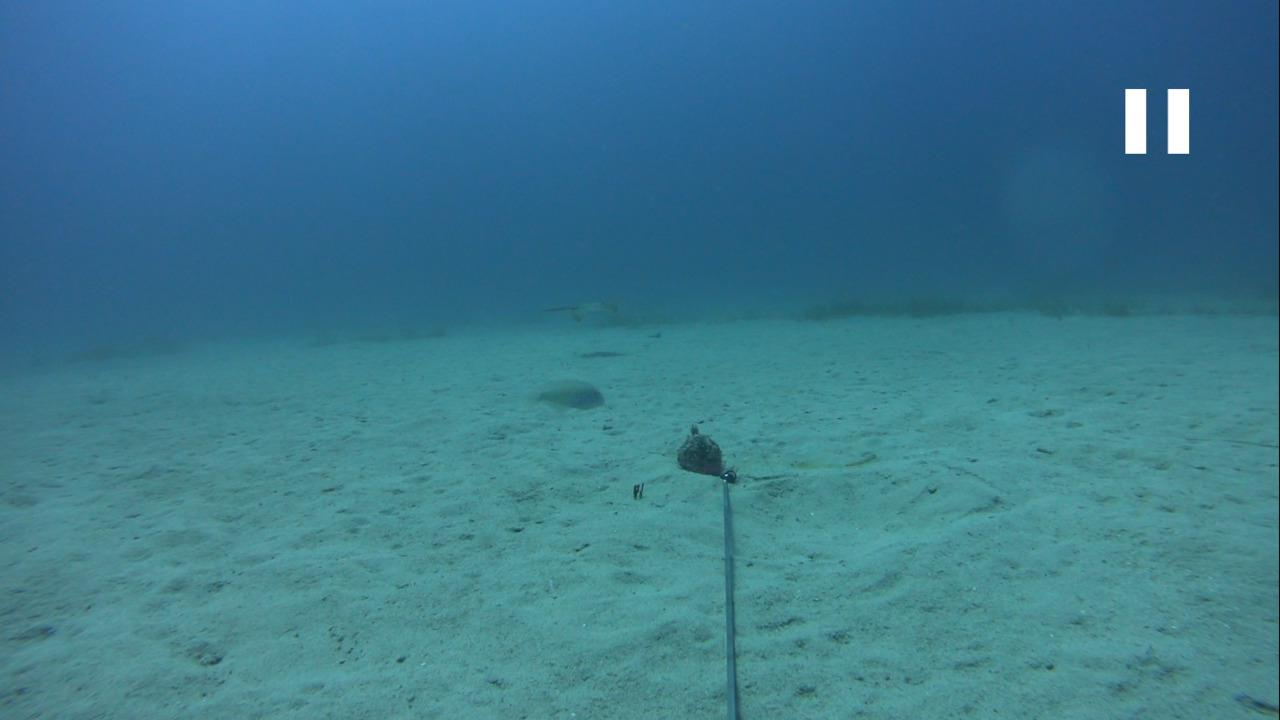myliobatis: (518, 287, 628, 333)
raor: (516, 378, 604, 414)
